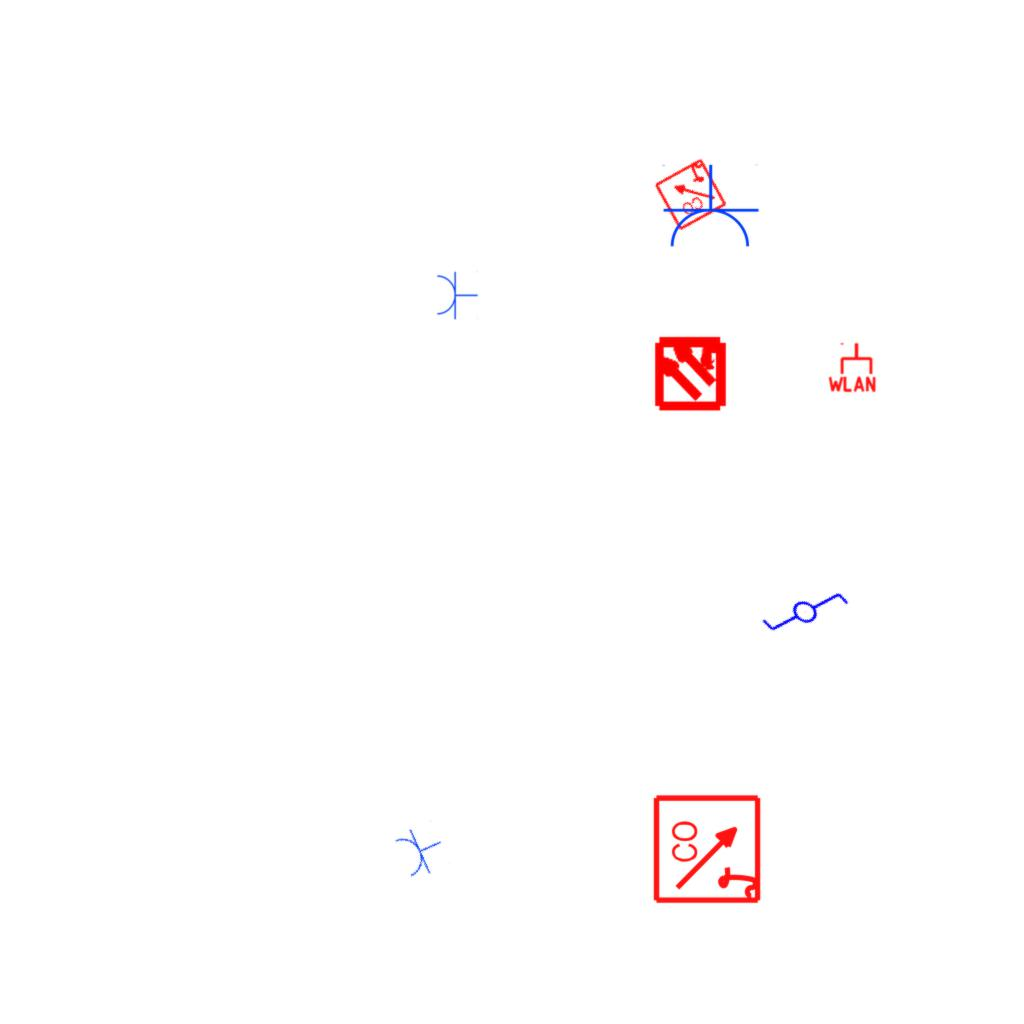OT_Multisensormelder_(Kombination_RMO_WMD): (634, 315, 747, 428)
ROA_Rauchmelder_optisch_mit_Signalgeber_(Sockelsirene): (652, 792, 765, 905), (651, 155, 729, 233)
Schukosteckdose_einfach: (660, 164, 760, 251), (391, 818, 451, 883), (435, 270, 478, 320)
WLAN: (826, 341, 878, 393)
Wechselschalter: (750, 558, 854, 660)
